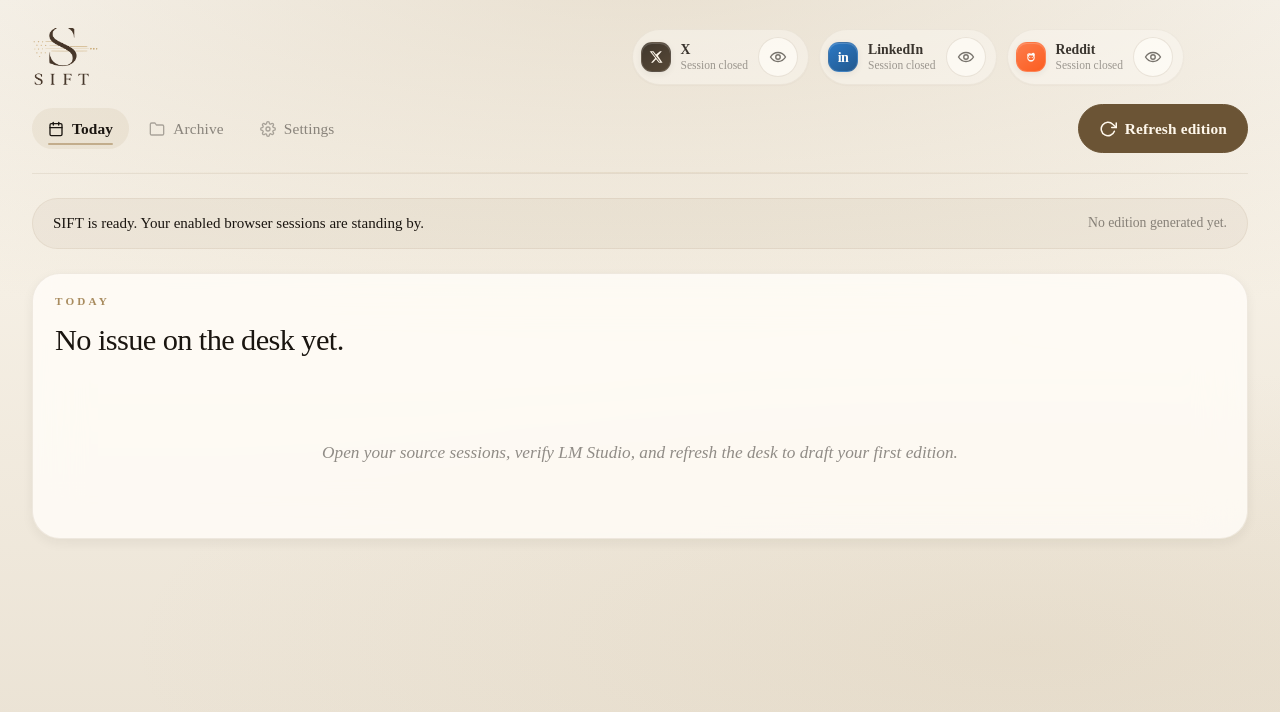
App › autosaves newsroom settings after they change
The image size is (1280, 712).
Expected: the text "SIFT is ready." is shown, left=53, top=215, right=424, bottom=231
Click the button "Settings".
click(297, 129)  # box left=244, top=108, right=350, bottom=149
(page scrolled)
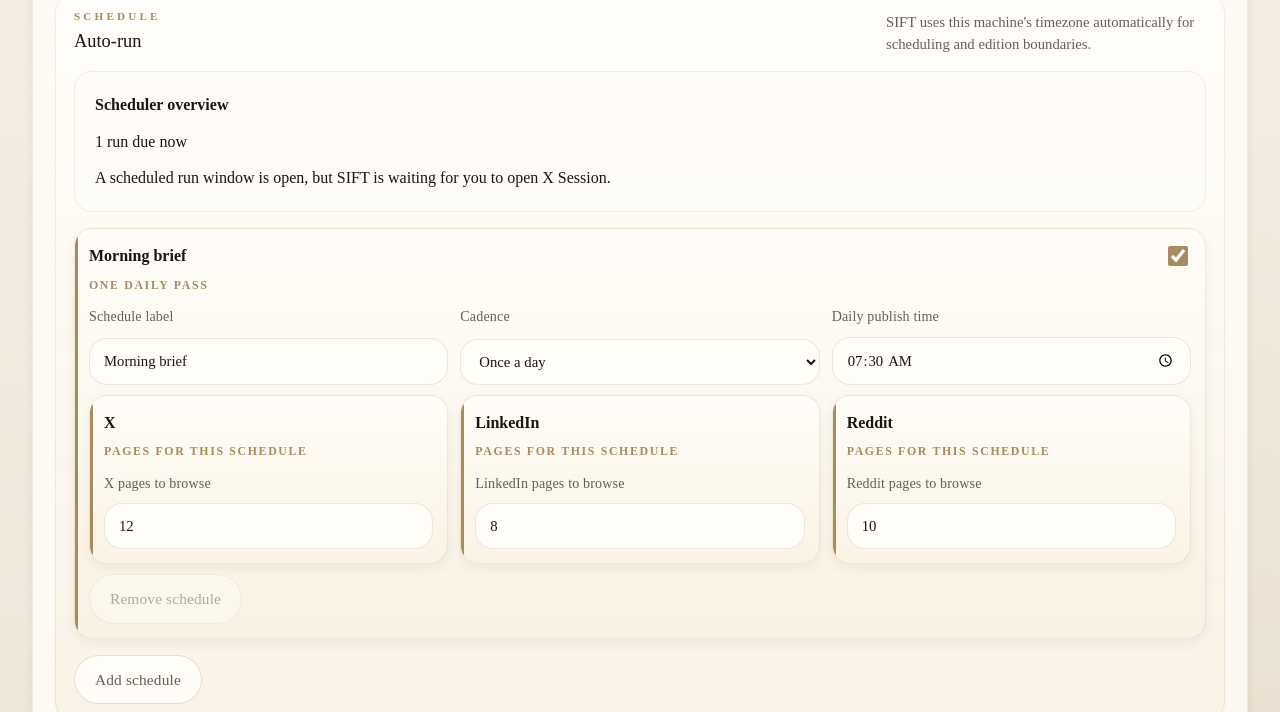
Replace the text in the time field labelled "Daily publish time" with "09:15" at (1011, 361), box left=832, top=337, right=1191, bottom=385
(page scrolled)
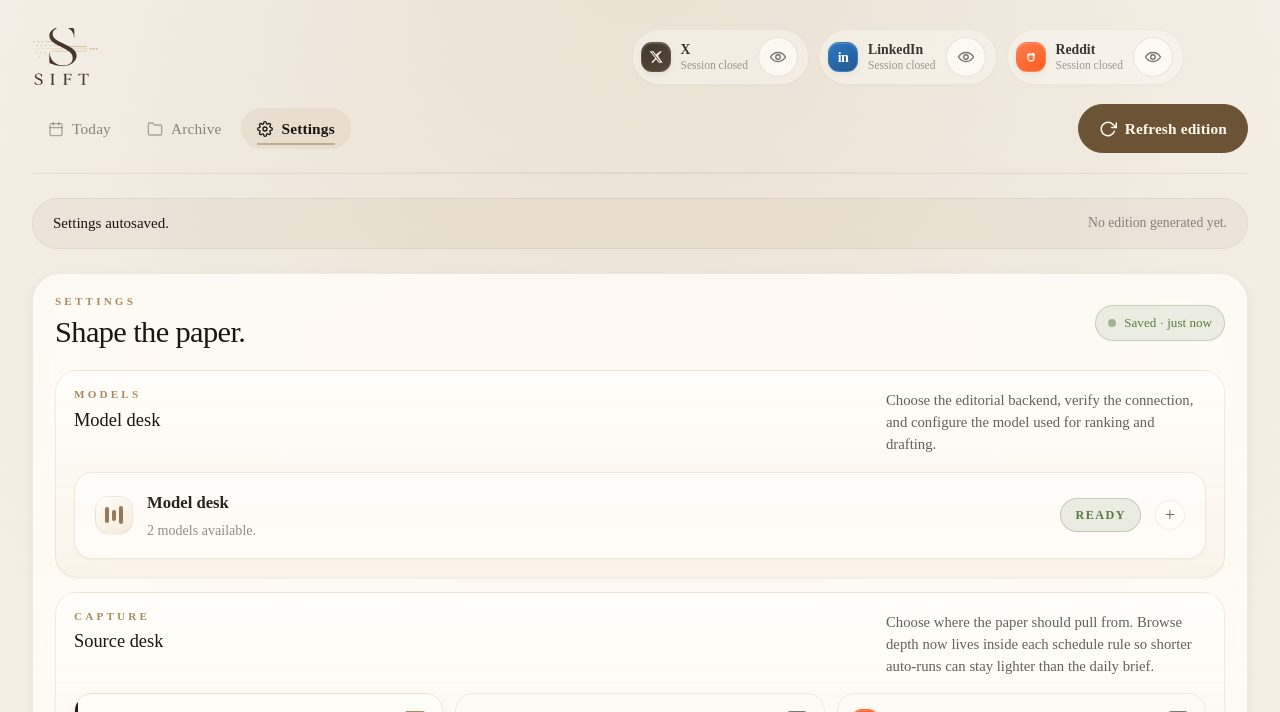
Expected: the text "Settings autosaved." is shown, left=53, top=211, right=169, bottom=236
